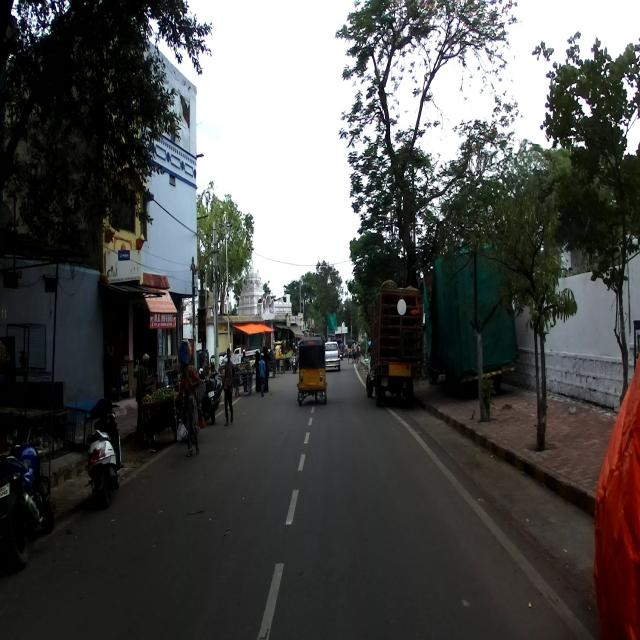motorcycle: (0, 426, 56, 574)
scooter: (82, 396, 125, 510)
